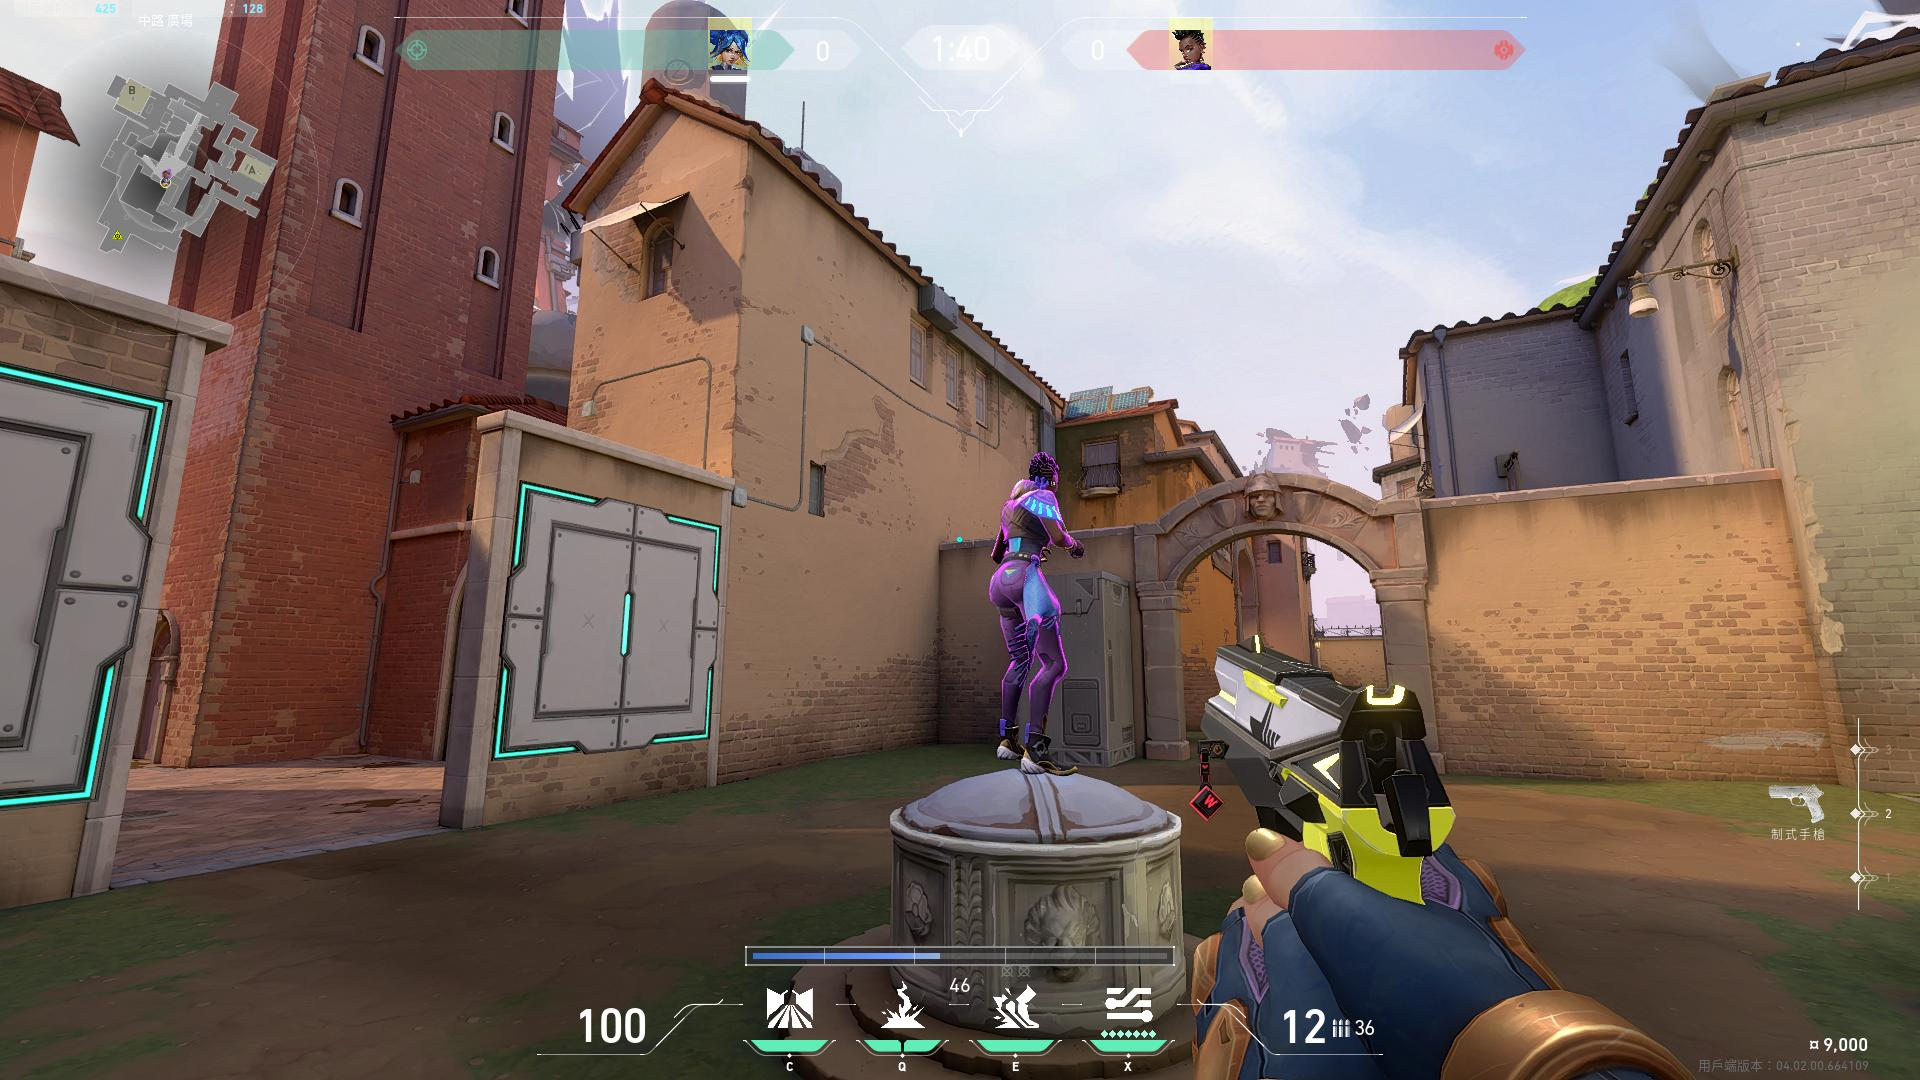enemyBody: (1002, 488, 1059, 567)
enemyHead: (1035, 454, 1059, 496)
